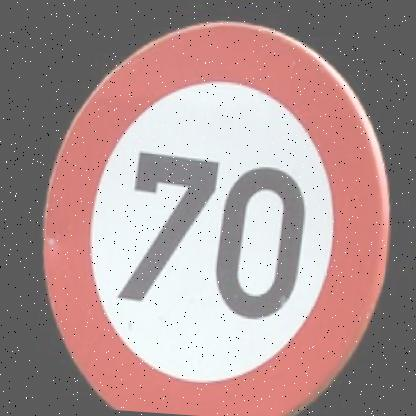speedlimit: (30, 4, 405, 415)
